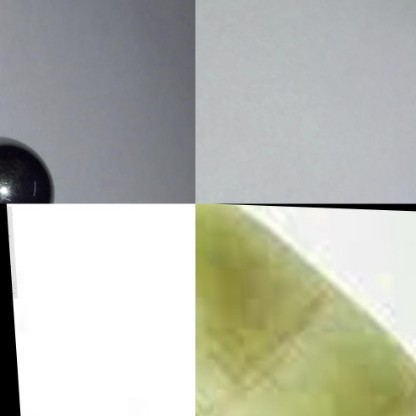ironball: (0, 135, 52, 203)
